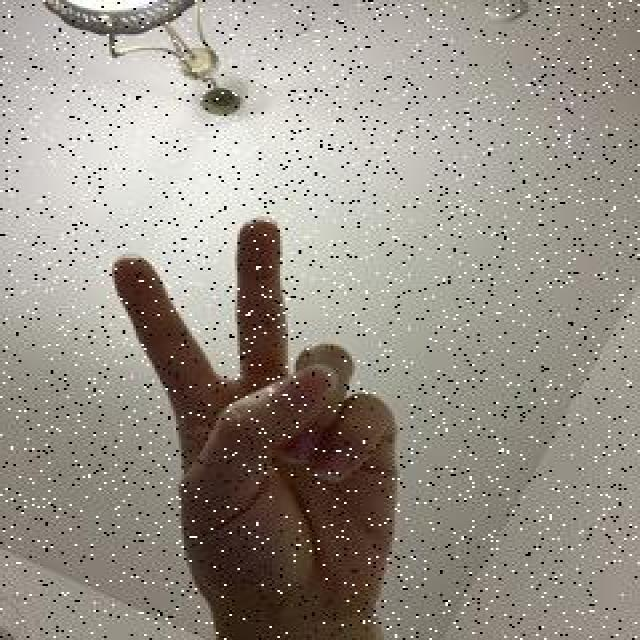V: (103, 213, 404, 629)
